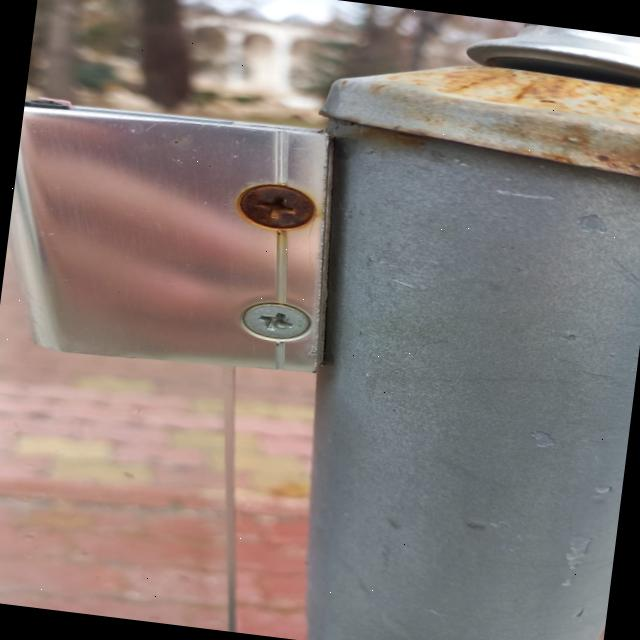Phillips: (218, 175, 318, 241), (226, 295, 319, 351)
